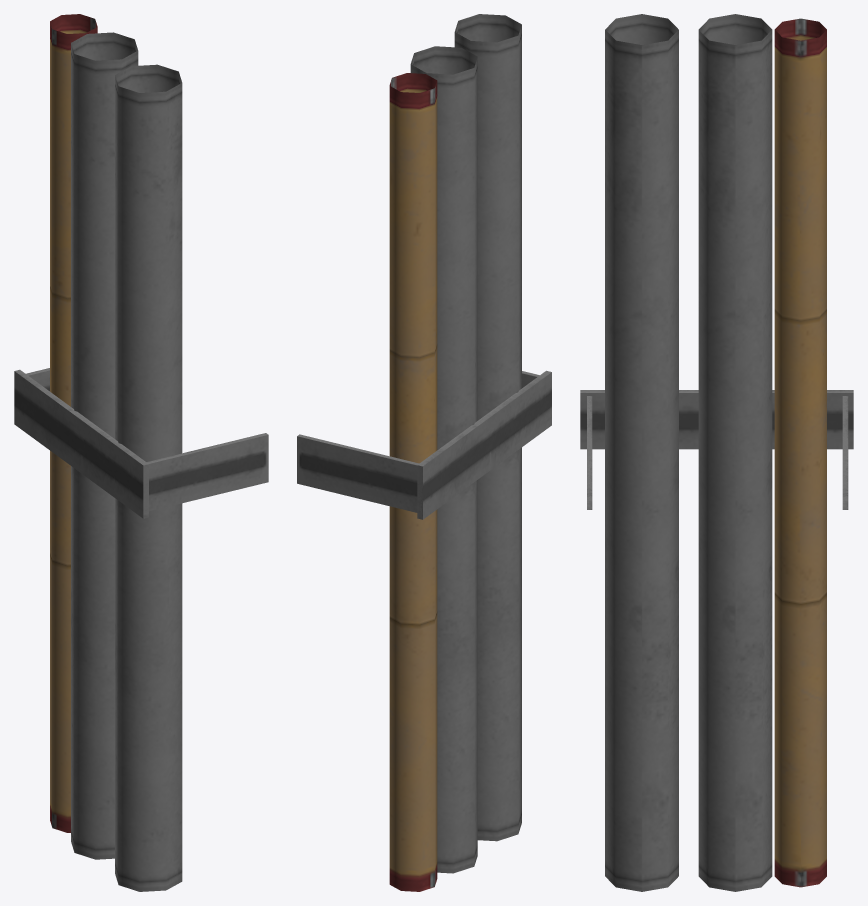
Rendered from CP_Pipe_F_2m_01.fbx.
3 views of the same model, side by side, from view 1: azimuth 30°, elevation 25°; view 2: azimuth 150°, elevation 25°; view 3: azimuth 270°, elevation 25° (orthographic). The views are drawn at different scales.
Visible parts, largest first — view 1: CP_Pipe_F_2m_01; view 2: CP_Pipe_F_2m_01; view 3: CP_Pipe_F_2m_01.
Part boxes in pixels (left/top/right/bottom): CP_Pipe_F_2m_01: left=14, top=14, right=268, bottom=891; CP_Pipe_F_2m_01: left=297, top=14, right=551, bottom=891; CP_Pipe_F_2m_01: left=580, top=14, right=853, bottom=891.
Size of the model in its own units: 33.65 by 200 by 58.56.
